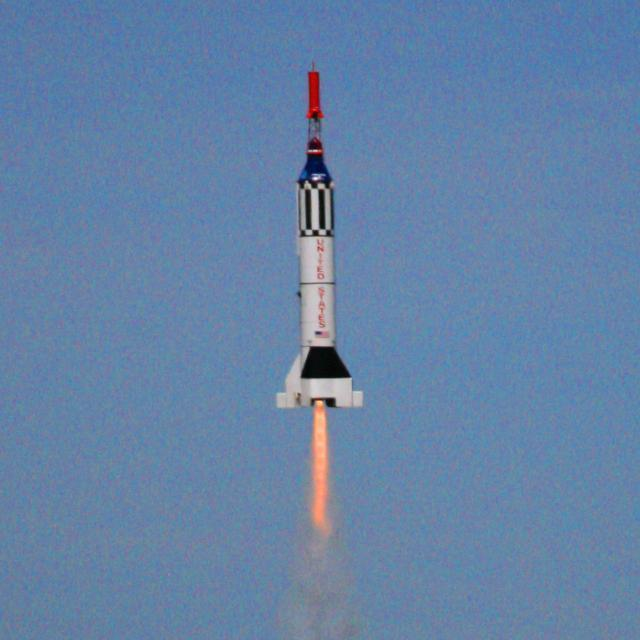missile: (278, 62, 360, 411)
